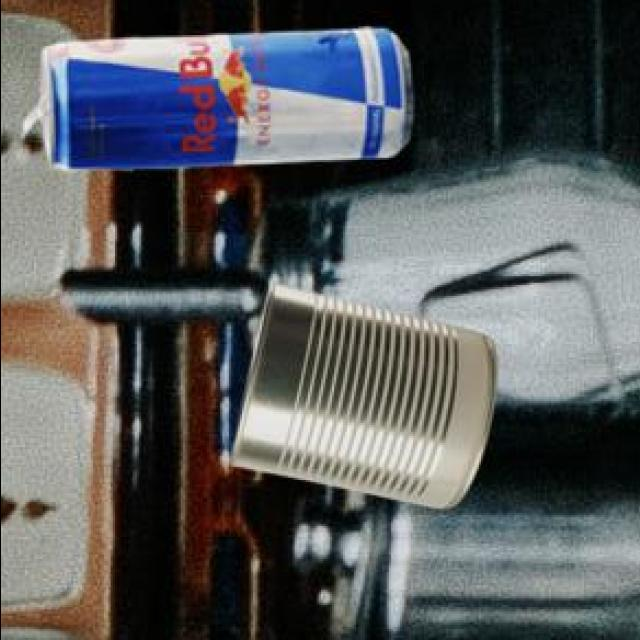logam: (227, 286, 492, 512), (16, 32, 411, 174)
